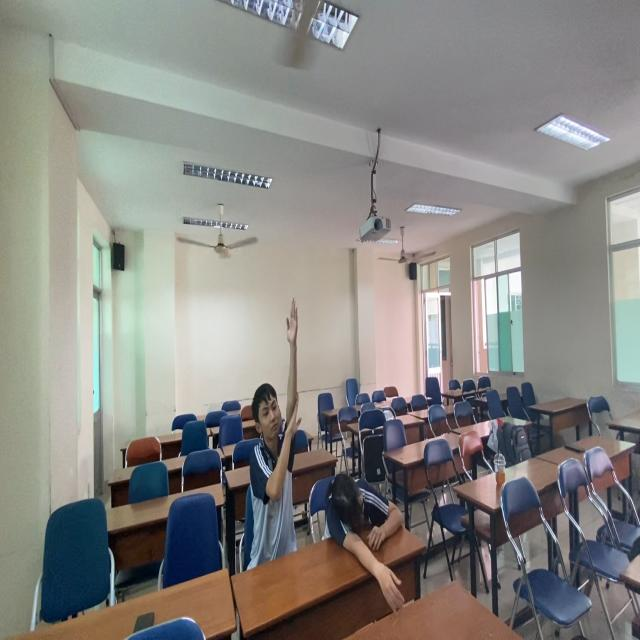raise_hand: (246, 293, 307, 591)
sleep: (321, 465, 409, 598)
